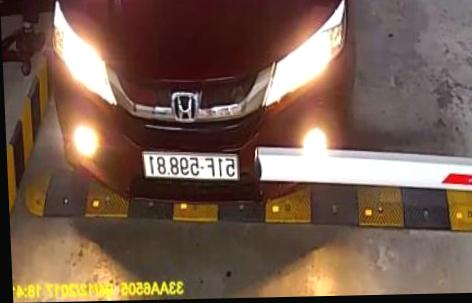License_Plate: (140, 146, 243, 183)
